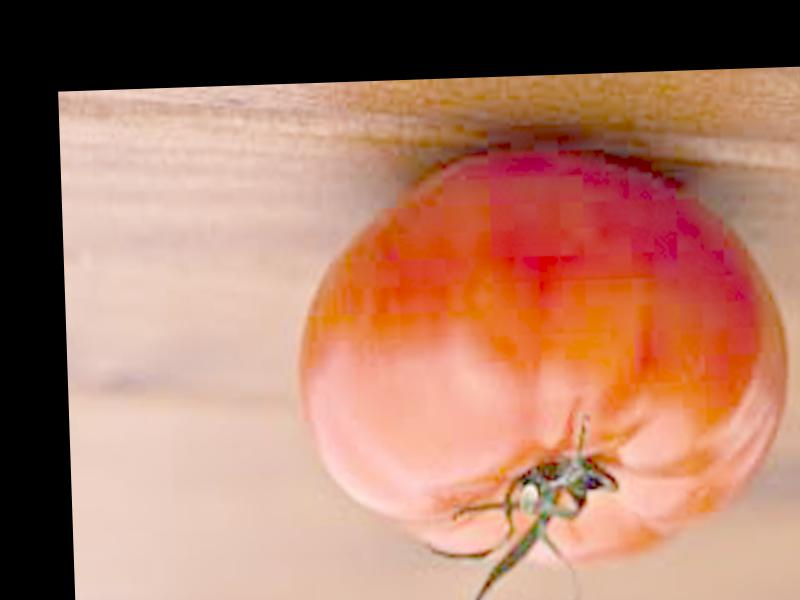Tomato: (286, 142, 792, 575)
